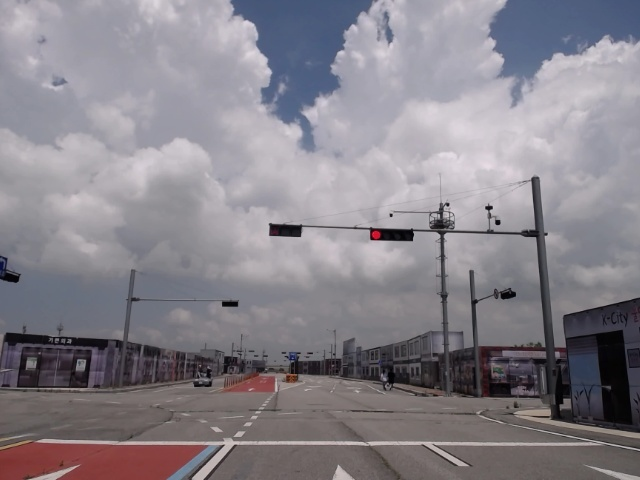red_4: (370, 229, 413, 241)
